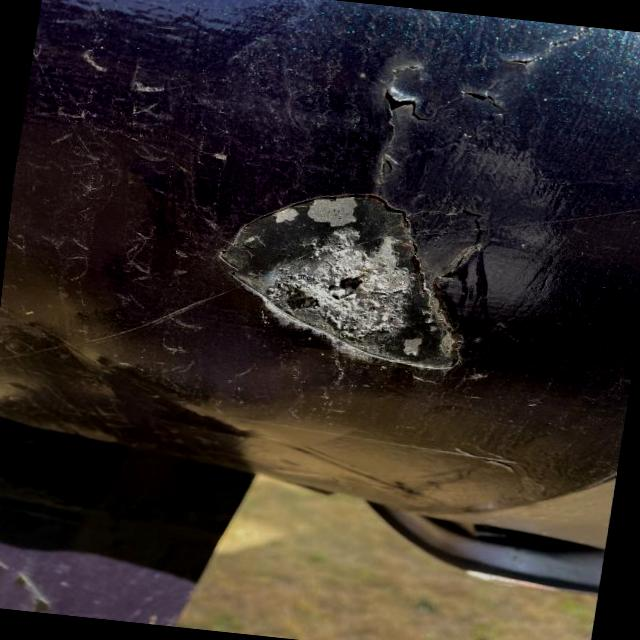crack: (365, 65, 514, 147), (489, 28, 606, 74)
dent: (204, 165, 495, 384)
